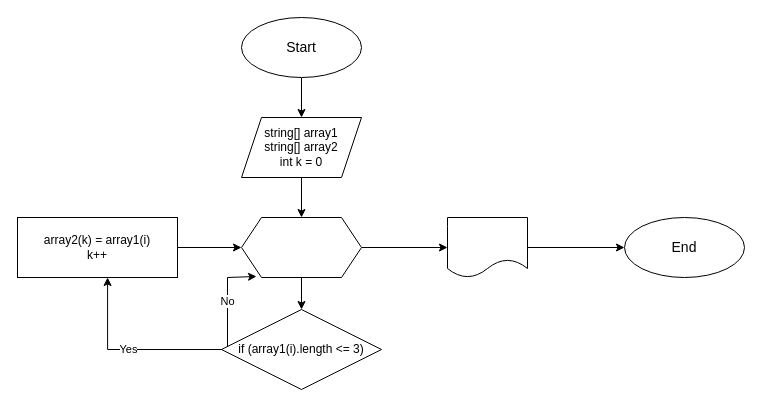
Image size: 762x407. Some labels were removed from this diagram. The shapes that lost their labels are listed below. From the top down, each one's centre as x and y in pixels, then its label:
At pixel 301 247: "int i = 0; i < array1.Lenth; i++".
At pixel 487 247: "print(array2)".
